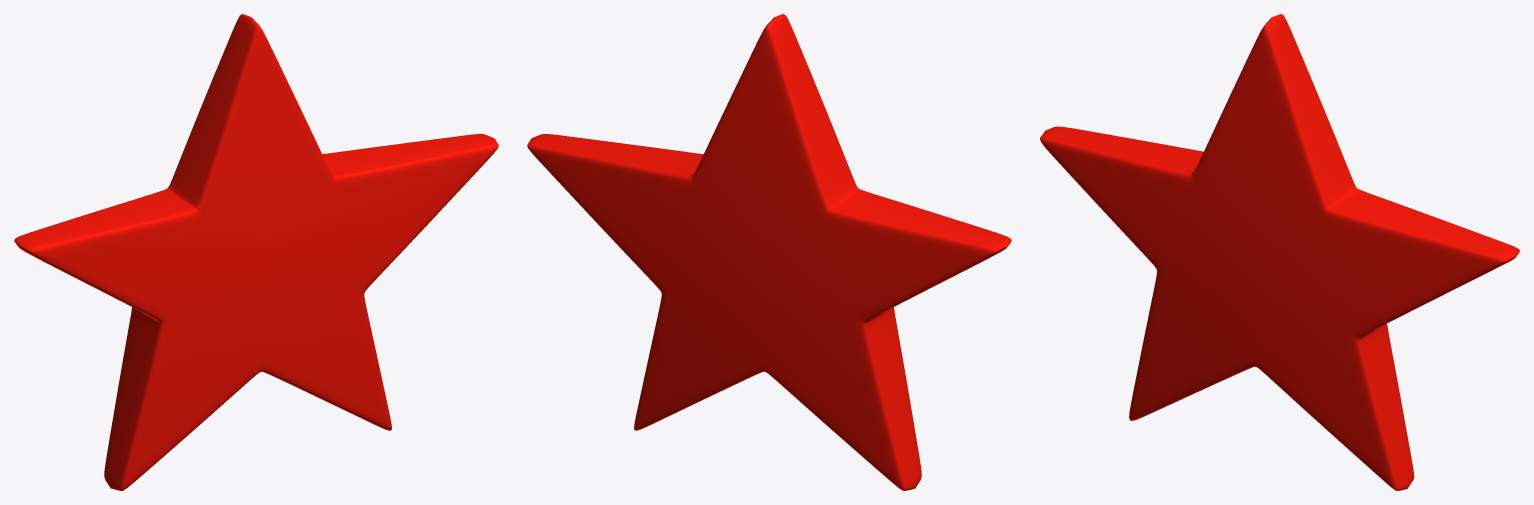
File: estrellaroja.gltf
3 renders of one model, left to right at view 1: azimuth 30°, elevation 25°; view 2: azimuth 150°, elevation 25°; view 3: azimuth 330°, elevation 25°, orthographic.
Parts seen in each view (by area): view 1: Star; view 2: Star; view 3: Star.
Part boxes in pixels (x1,y1,x2,y2): Star: (14, 14, 498, 490); Star: (527, 14, 1011, 490); Star: (1040, 14, 1519, 490).
Bounding box in the file's own units: 9.37 × 8.34 × 1.21.
